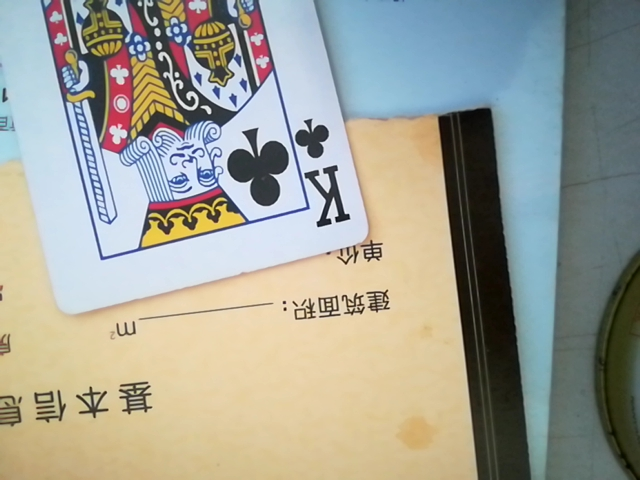mh k: (0, 4, 372, 327)
